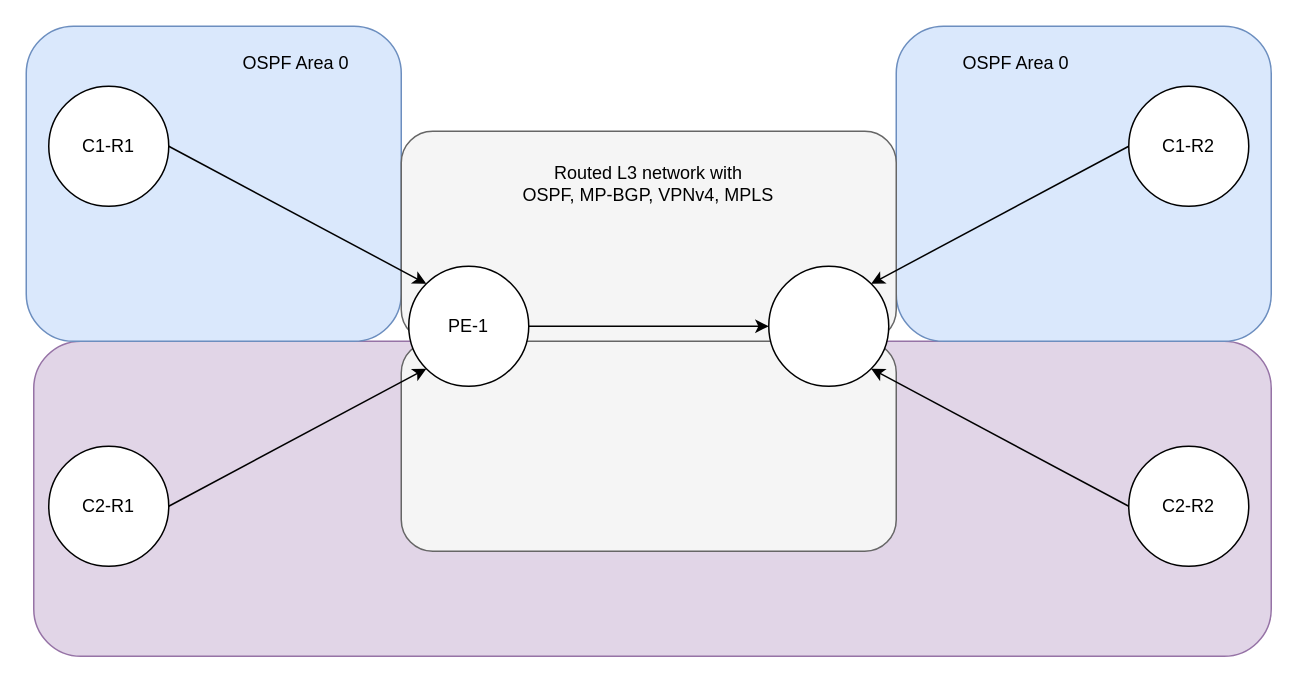
Image size: 1298x683. Some labels were removed from this diagram. Here are the shapes that lost their labels. From the top down, the centre of each, then its label:
At point (828, 325): "PE-2".
At point (648, 445): "Stretched L2 network with L2VPN, AToM, Pseudowires, MP-BGP, MPLS".
